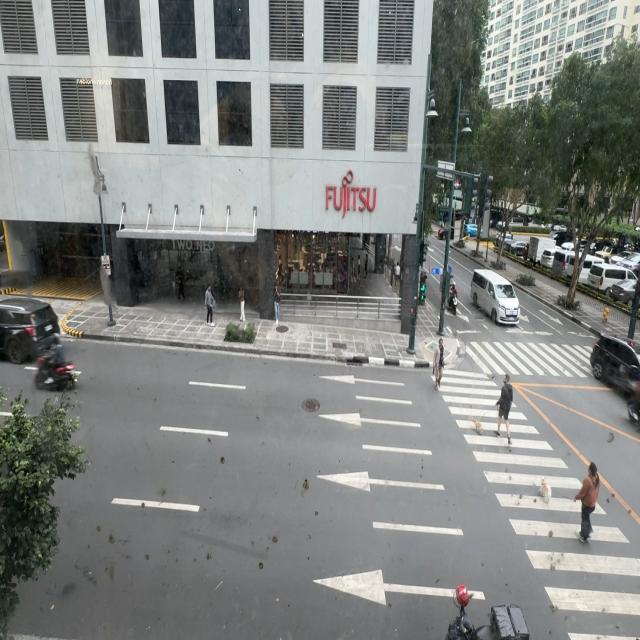crossing: (573, 463, 599, 542), (493, 372, 513, 441)
pedestrain: (204, 284, 214, 326), (273, 282, 281, 324), (239, 285, 246, 322), (394, 261, 400, 291)
waiting: (435, 339, 447, 390)
